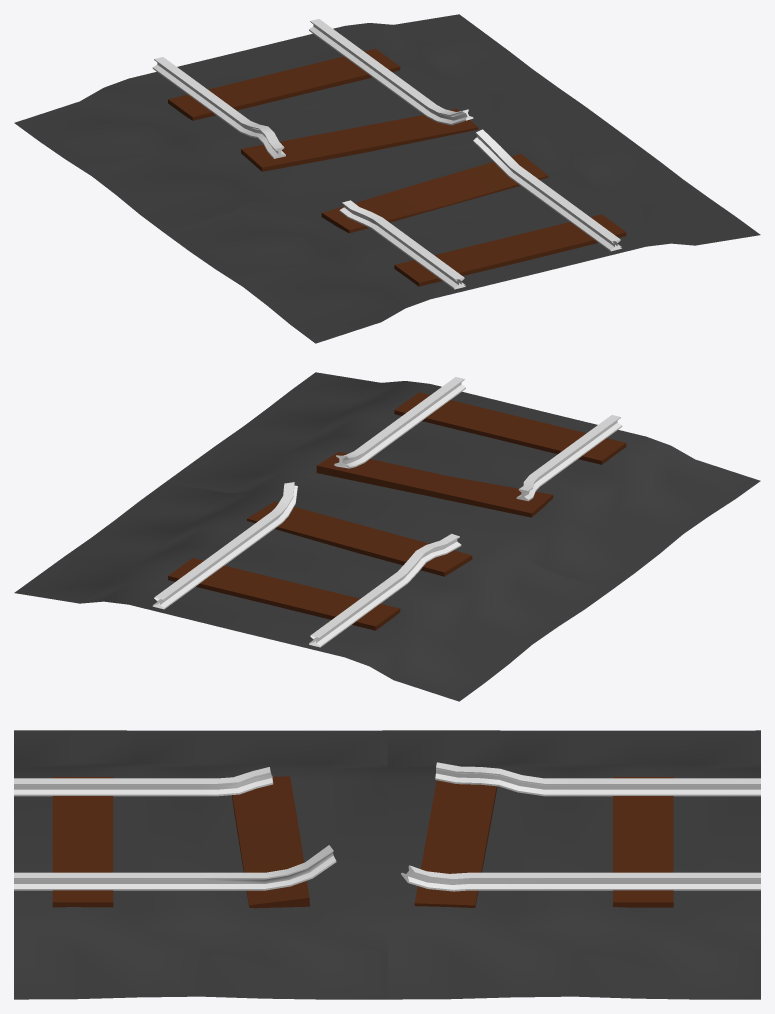
Rendered from brokenRails.fbx.
The picture shows the model from 3 angles, top to bottom: view 1: azimuth 30°, elevation 25°; view 2: azimuth 150°, elevation 25°; view 3: azimuth 270°, elevation 25°; orthographic projection. The views are drawn at different scales.
Visible parts, largest first — view 1: Plane; view 2: Plane; view 3: Plane.
Part boxes in pixels (x1,y1,x2,y2): Plane: (14,14,760,343); Plane: (14,372,760,701); Plane: (14,730,760,999).
Size of the model in its own units: 340 by 35.11 by 399.
